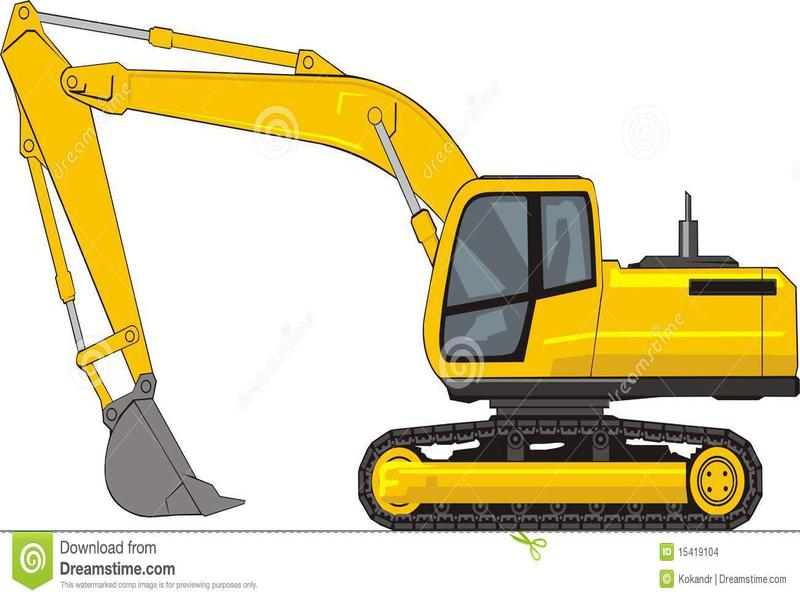shovel: (4, 2, 800, 536)
